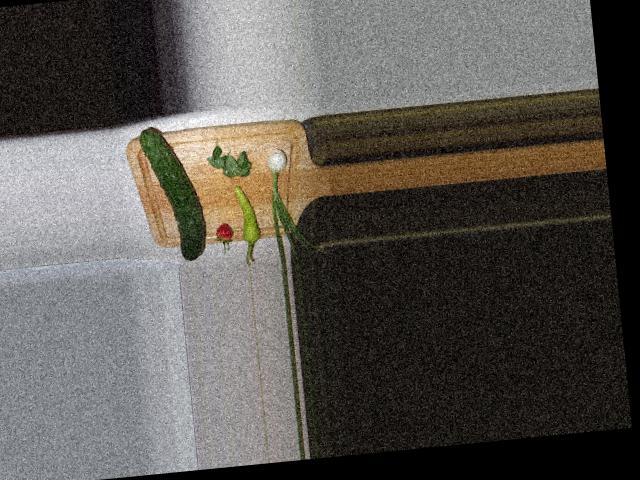cucumber: (138, 124, 207, 263)
